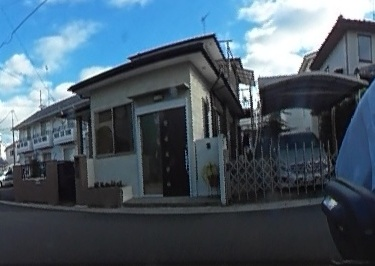person: (332, 25, 375, 265)
